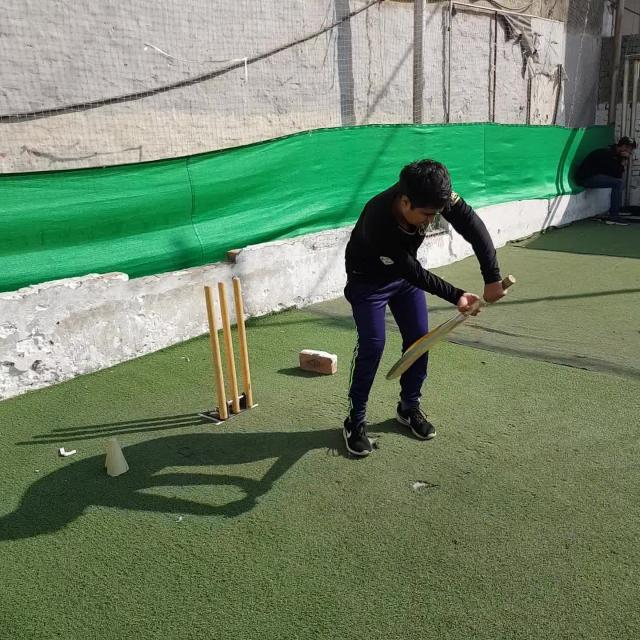bat: (386, 274, 516, 379)
